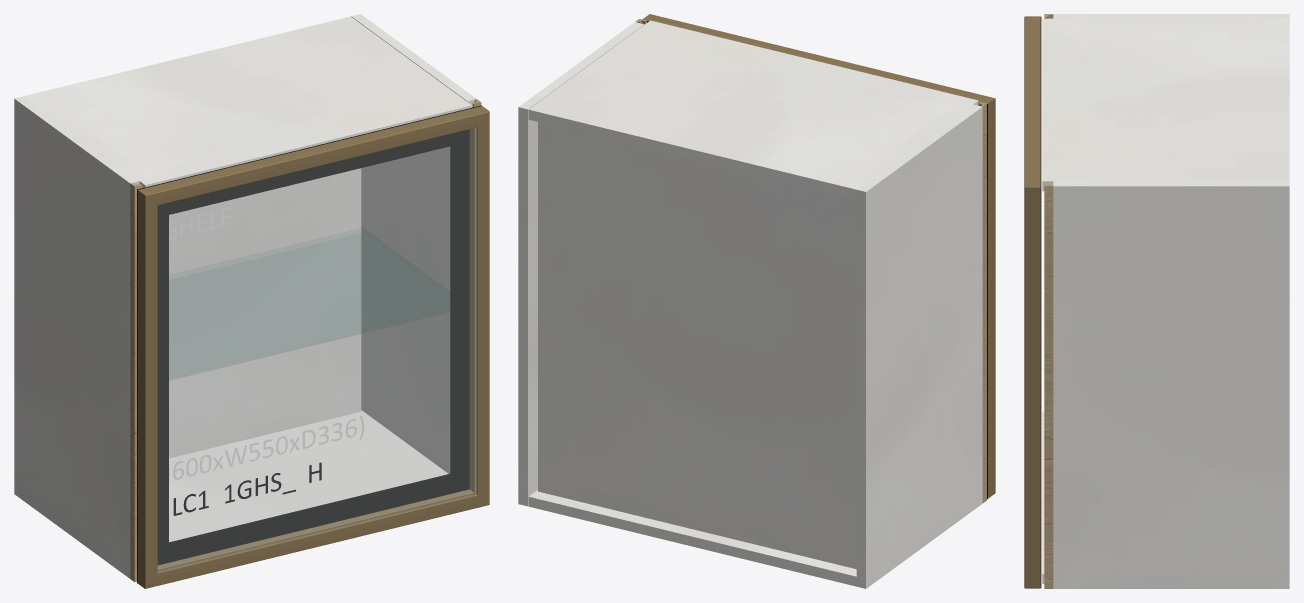
File: LO-SH-NHX-GL-1SG-LHS-XXX-550-600-336-15.glb
The picture shows the model from 3 angles, left to right: view 1: azimuth 30°, elevation 25°; view 2: azimuth 150°, elevation 25°; view 3: azimuth 270°, elevation 25°; orthographic projection.
Visible parts, largest first — view 1: Object_node_4, TP_node_0, TP_node_2, TP, Neon 22 Profile ALU PROF NEON 20 L21XH22.5MM 3MTR S2/405 SEC (×4), TP_node_1, Object_node_6, TP_node, Object_node_8, 2D text_node_0, 2D text_node; view 2: TP_node_2, TP_node_0, TP, TP_node_1, TP_node, Neon 22 Profile ALU PROF NEON 20 L21XH22.5MM 3MTR S2/405 SEC (×2), Object_node_8; view 3: TP_node_1, TP, Neon 22 Profile ALU PROF NEON 20 L21XH22.5MM 3MTR S2/405 SEC (×2), Object_node_14, TP_node_0, Object_node_6, TP_node.
Part boxes in pixels (bbox=[...]): Object_node_4: bbox=[158, 128, 476, 571]; TP_node_0: bbox=[14, 96, 139, 578]; TP_node_2: bbox=[169, 168, 361, 458]; TP: bbox=[24, 16, 472, 187]; Neon 22 Profile ALU PROF NEON 20 L21XH22.5MM 3MTR S2/405 SEC (×4): bbox=[137, 106, 489, 588]; TP_node_1: bbox=[351, 14, 476, 473]; Object_node_6: bbox=[137, 105, 481, 583]; TP_node: bbox=[169, 410, 448, 542]; Object_node_8: bbox=[130, 183, 142, 582]; 2D text_node_0: bbox=[169, 415, 364, 481]; 2D text_node: bbox=[173, 462, 321, 515]; TP_node_2: bbox=[538, 122, 856, 569]; TP_node_0: bbox=[856, 104, 982, 588]; TP: bbox=[528, 20, 978, 199]; TP_node_1: bbox=[518, 22, 644, 506]; TP_node: bbox=[528, 490, 856, 586]; Neon 22 Profile ALU PROF NEON 20 L21XH22.5MM 3MTR S2/405 SEC (×2): bbox=[642, 14, 995, 498]; Object_node_8: bbox=[978, 102, 986, 503]; TP_node_1: bbox=[1053, 181, 1289, 588]; TP: bbox=[1042, 18, 1289, 191]; Neon 22 Profile ALU PROF NEON 20 L21XH22.5MM 3MTR S2/405 SEC (×2): bbox=[1024, 16, 1040, 588]; Object_node_14: bbox=[1044, 182, 1053, 588]; TP_node_0: bbox=[1053, 14, 1289, 18]; Object_node_6: bbox=[1040, 16, 1041, 588]; TP_node: bbox=[1042, 411, 1044, 583].
Size of what is drawn, in the model's own units: 0.55 by 0.6 by 0.358.
Materials: 8 (2 with a texture image).
